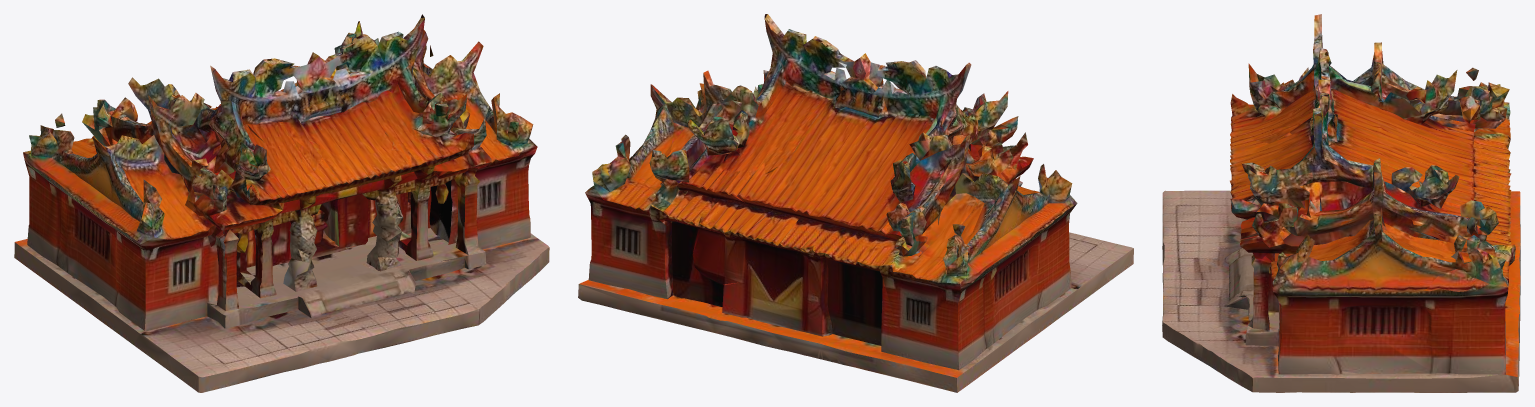
The model's file is dalongdong-baoan-temple.glb.
The picture shows the model from 3 angles, left to right: view 1: azimuth 30°, elevation 25°; view 2: azimuth 150°, elevation 25°; view 3: azimuth 270°, elevation 25°; orthographic projection. The views are drawn at different scales.
Parts seen in each view (by area): view 1: logan-textured.obj; view 2: logan-textured.obj; view 3: logan-textured.obj.
Boxes of the visible parts, x1,y1,x2,y2 form: logan-textured.obj: [14, 14, 549, 392]; logan-textured.obj: [578, 14, 1133, 392]; logan-textured.obj: [1162, 14, 1520, 392].
Size of the model in its own units: 1 by 0.5883 by 0.808.
1 material, 1 textured.
